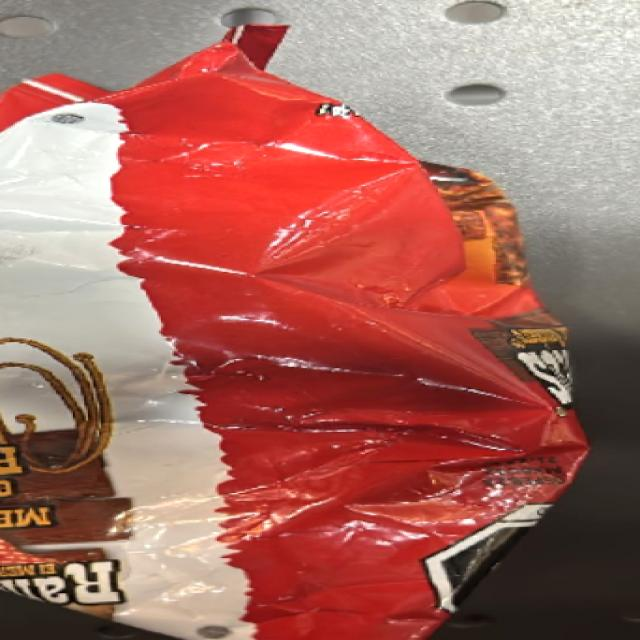productoAtras: (1, 131, 168, 630)
